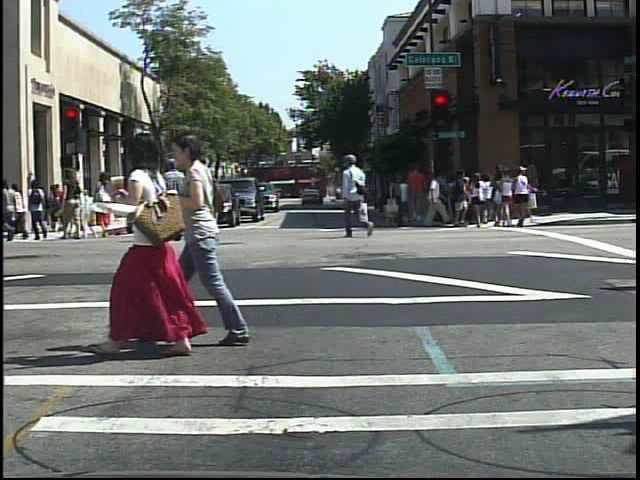person: (95, 127, 216, 359), (169, 127, 258, 351), (340, 148, 375, 242), (157, 154, 193, 243), (506, 163, 546, 231), (190, 155, 218, 245), (59, 166, 86, 242), (94, 168, 121, 242), (27, 175, 51, 244), (469, 170, 492, 232), (2, 172, 21, 246)
